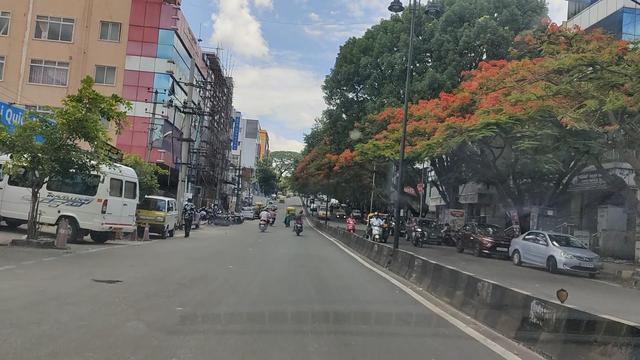RoadDamages: (87, 269, 130, 287)
